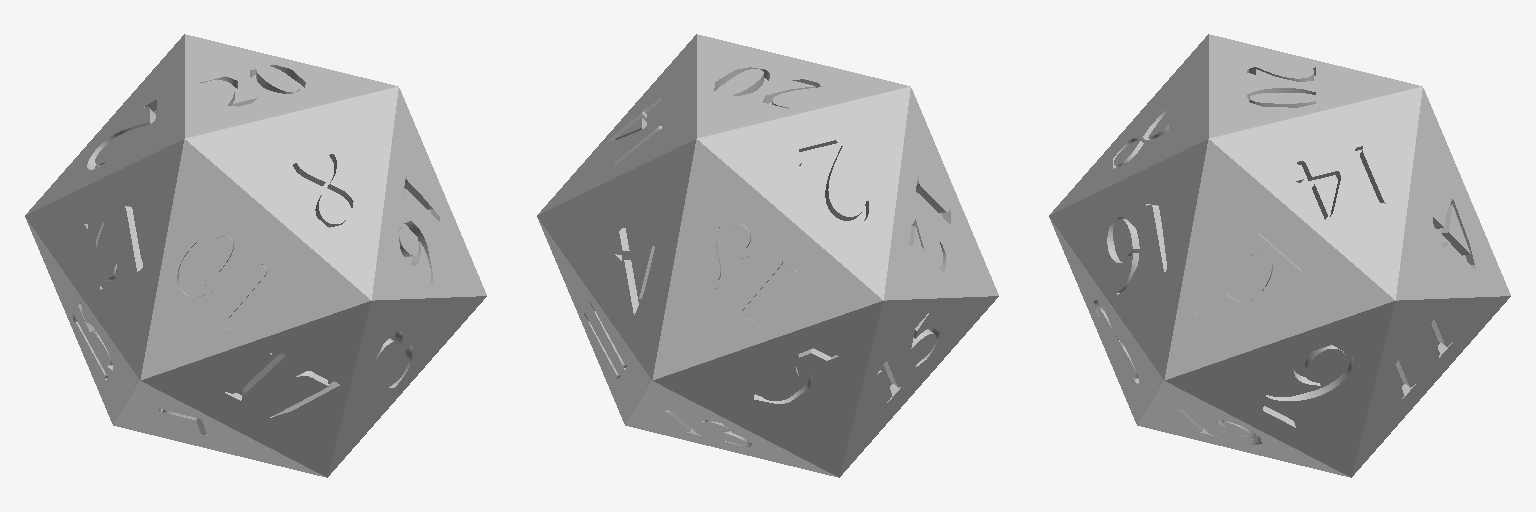
File: StandardD20.obj
3 renders of one model, left to right at view 1: azimuth 30°, elevation 25°; view 2: azimuth 150°, elevation 25°; view 3: azimuth 270°, elevation 25°, orthographic.
Parts seen in each view (by area): view 1: D20_Solid.002; view 2: D20_Solid.002; view 3: D20_Solid.002.
Boxes of the visible parts, x1,y1,x2,y2 form: D20_Solid.002: [25, 34, 486, 477]; D20_Solid.002: [537, 34, 998, 477]; D20_Solid.002: [1049, 34, 1510, 477].
Size of the model in its own units: 3.21 by 3 by 3.71.